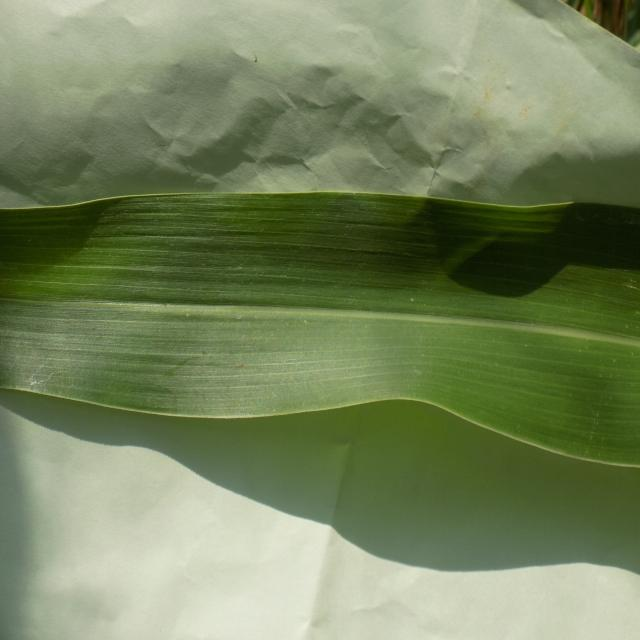millet_healthy: (0, 191, 640, 496)
